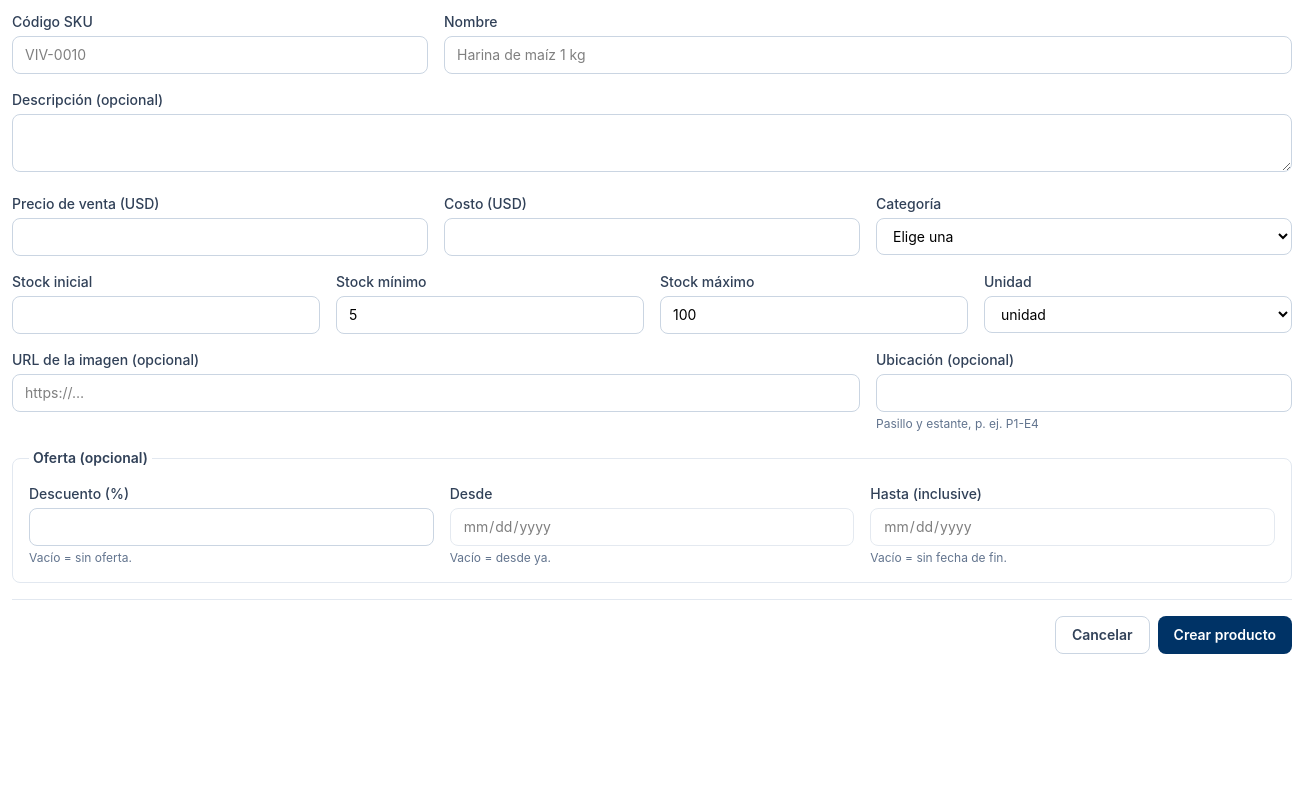
it: FormularioProducto: validaciones › muestra el margen calculado a partir del precio y el costo
Type "2" into the number field labelled "Precio de venta (USD)" at (220, 237), box [12, 218, 428, 256]
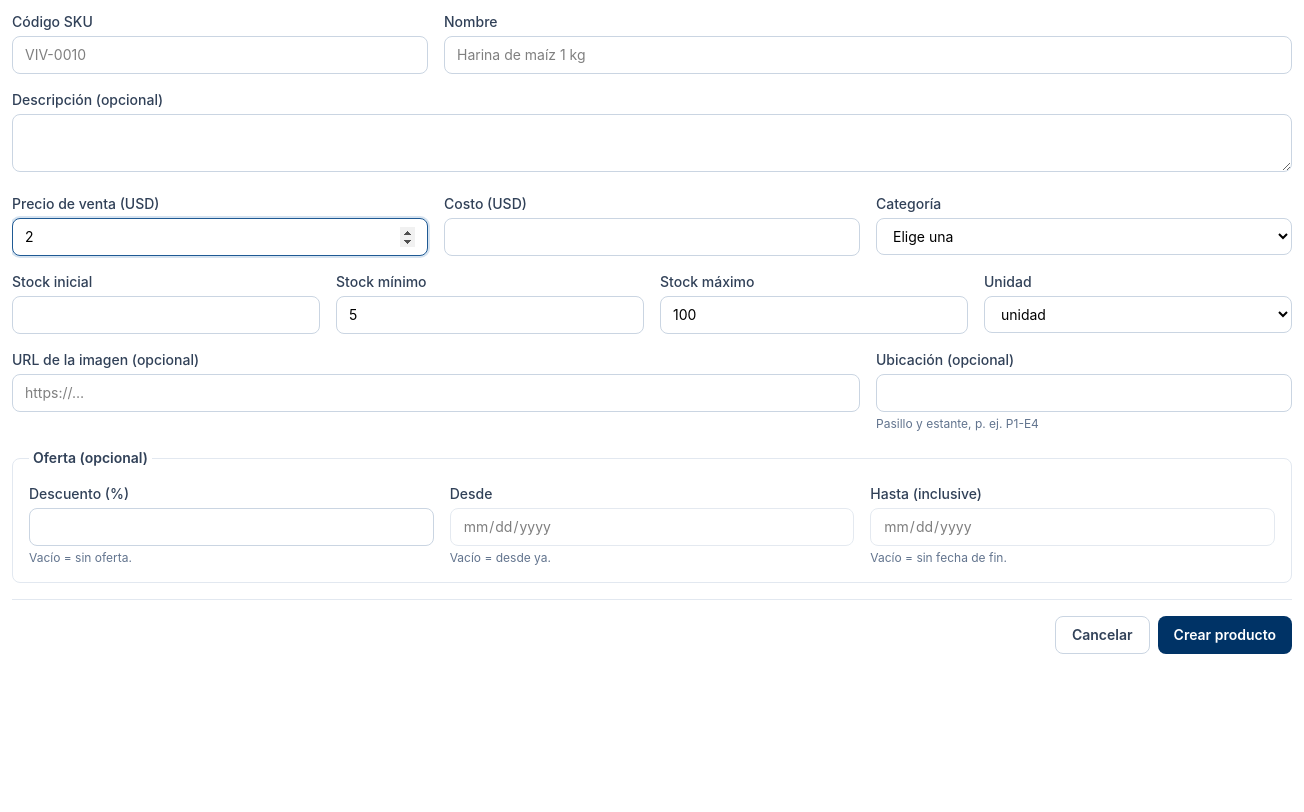
Type "1.5" into the number field labelled "Costo (USD)" at (652, 237), box [444, 218, 860, 256]
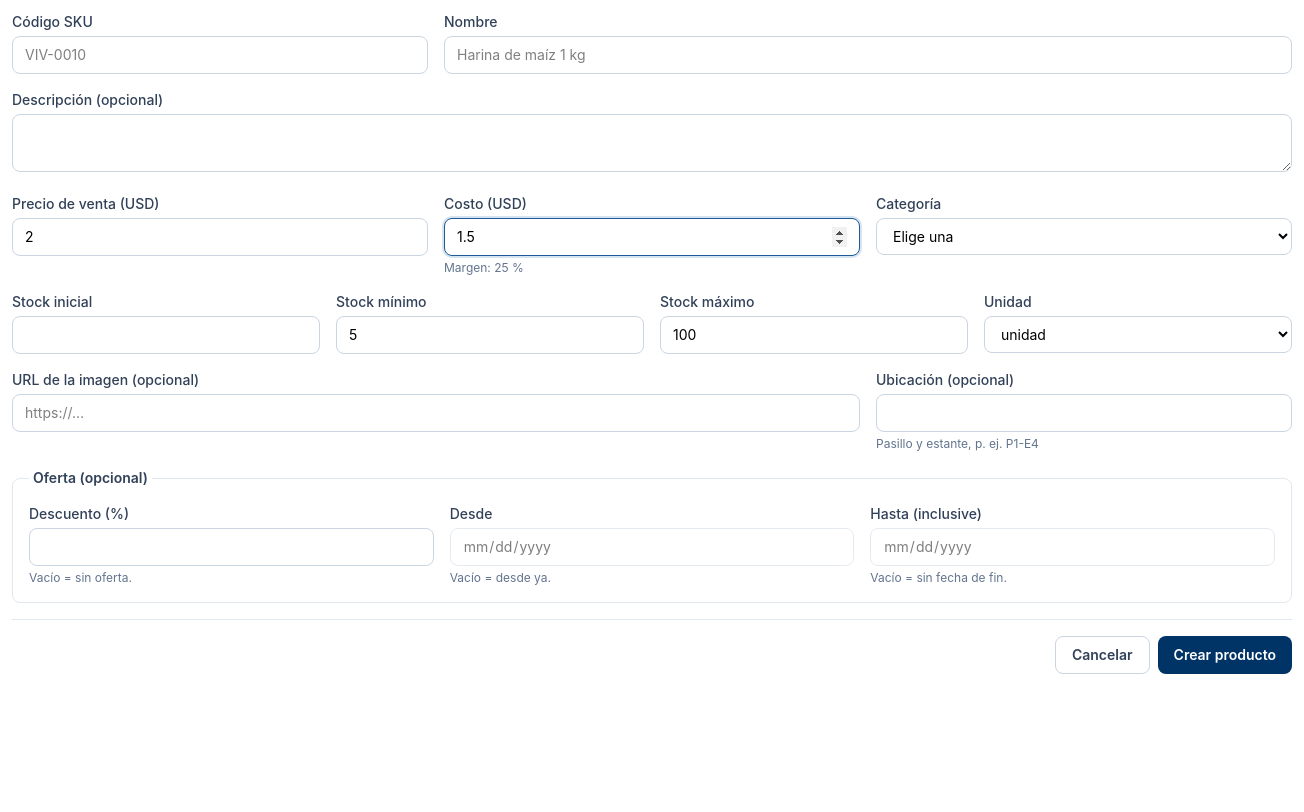
Now the text "Margen: 25 %" is shown, box [444, 260, 524, 275]
